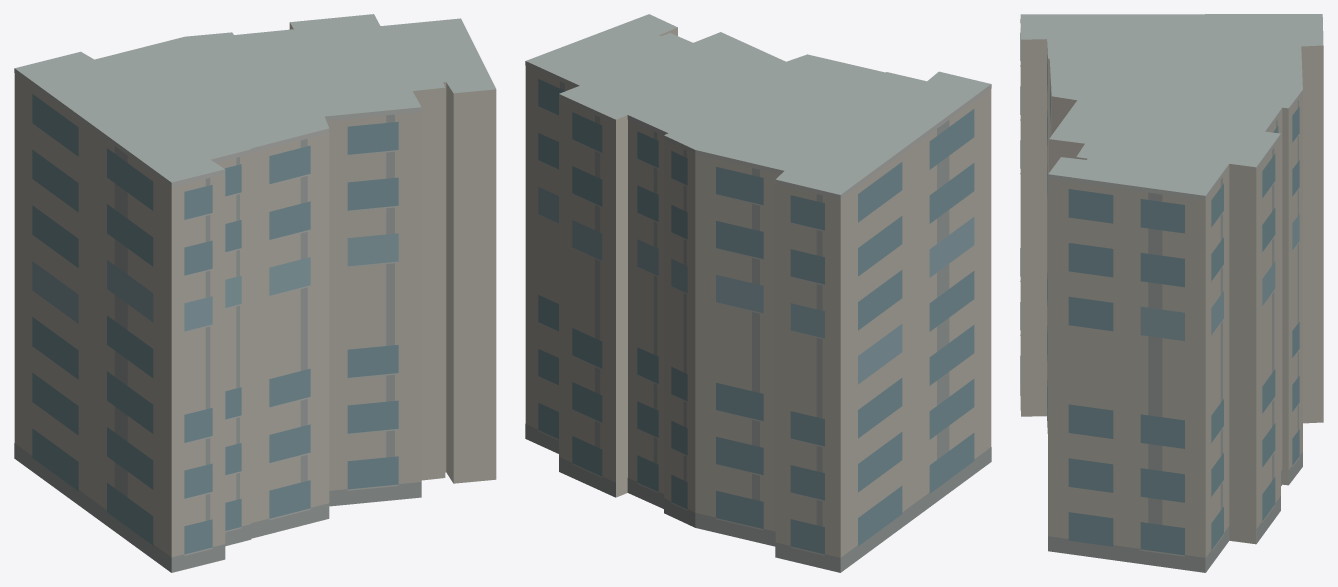
File: survey-upis-32682993.glb
3 views of the same model, side by side, from view 1: azimuth 30°, elevation 25°; view 2: azimuth 150°, elevation 25°; view 3: azimuth 270°, elevation 25° (orthographic). The views are drawn at different scales.
Visible parts, largest first — view 1: survey-upis-32682993.tmp; view 2: survey-upis-32682993.tmp; view 3: survey-upis-32682993.tmp.
Part boxes in pixels (x1=…): survey-upis-32682993.tmp: x1=14, y1=14, x2=496, y2=572; survey-upis-32682993.tmp: x1=525, y1=14, x2=991, y2=572; survey-upis-32682993.tmp: x1=1020, y1=14, x2=1323, y2=572.
Size of the model in its own units: 20.5 by 19.8 by 14.43.
